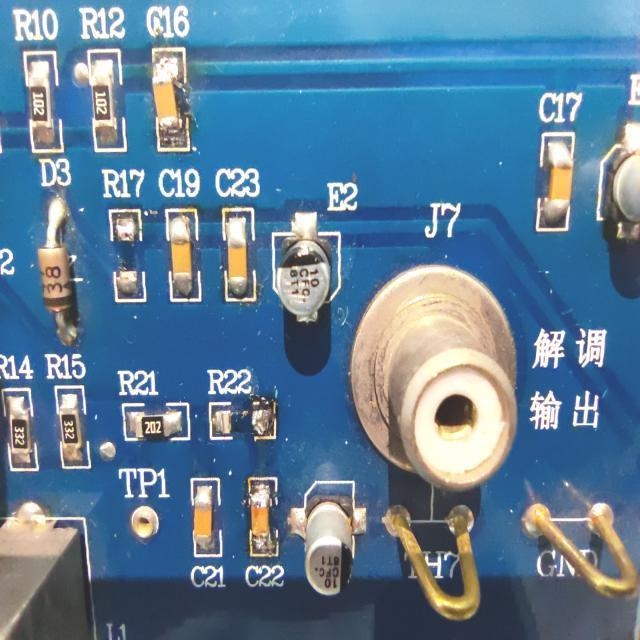Missing component: (102, 166, 150, 303), (206, 367, 282, 442)
